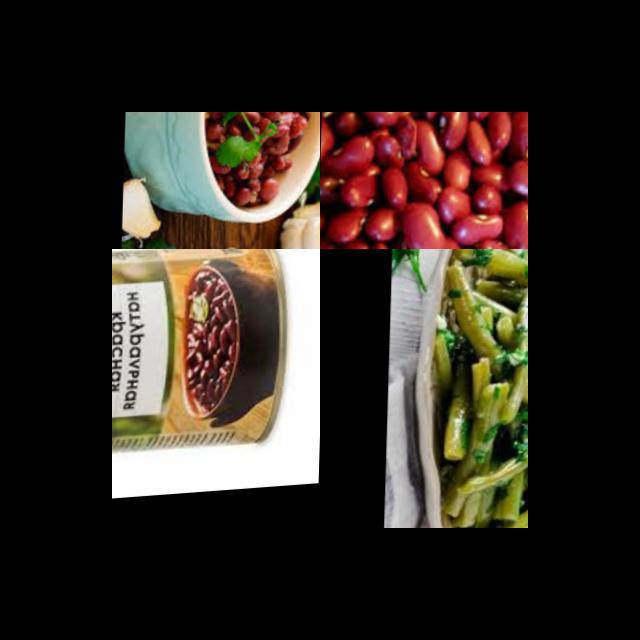garlic: (124, 170, 168, 246), (279, 207, 320, 249)
